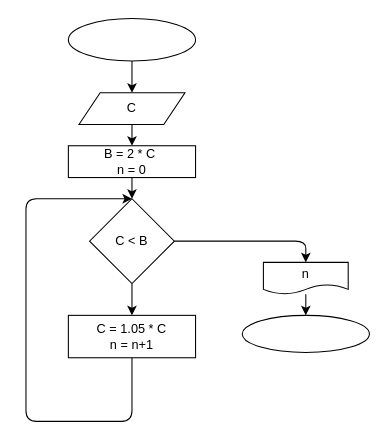
This 388x448 diagram has some shape labels left out. The centre of each missing label's shape, as x and y in pixels:
"FIN" belongs at (x=305, y=333).
"INICIO" belongs at (x=131, y=39).
